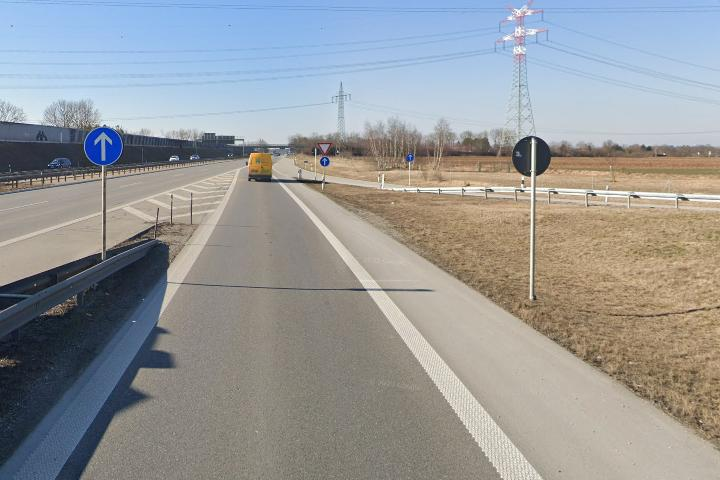traffic_sign: (84, 126, 123, 165), (317, 142, 332, 155), (320, 157, 330, 167)
vehicle: (244, 151, 273, 183), (47, 155, 71, 172)
